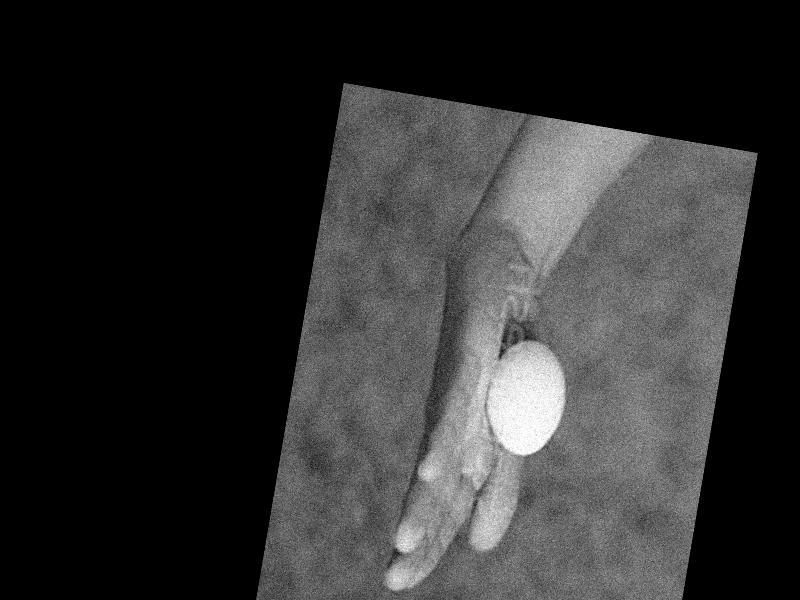Eggs: (479, 334, 576, 460)
